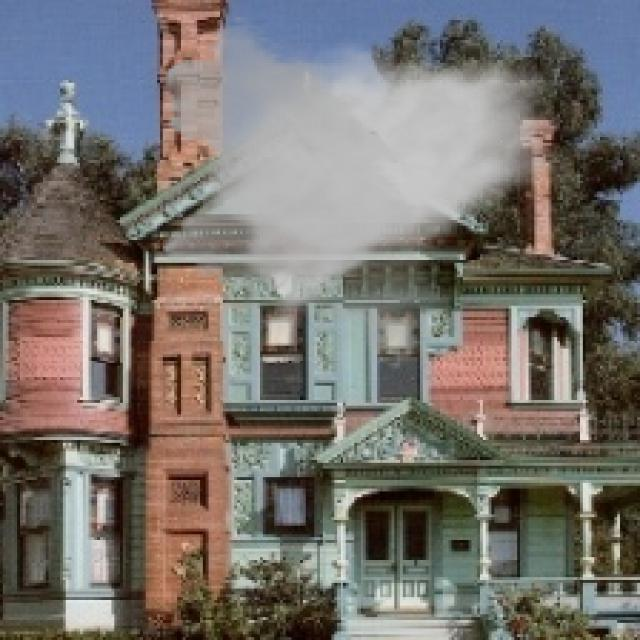Smoke: (152, 14, 568, 372)
